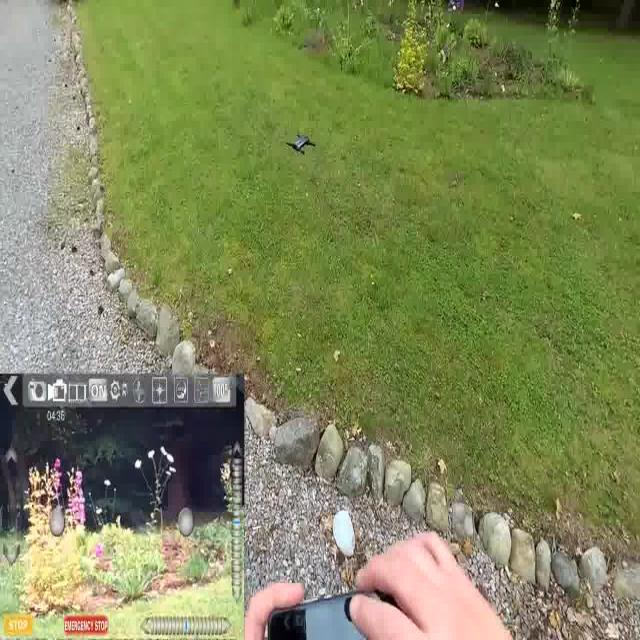drone: (283, 126, 318, 161)
